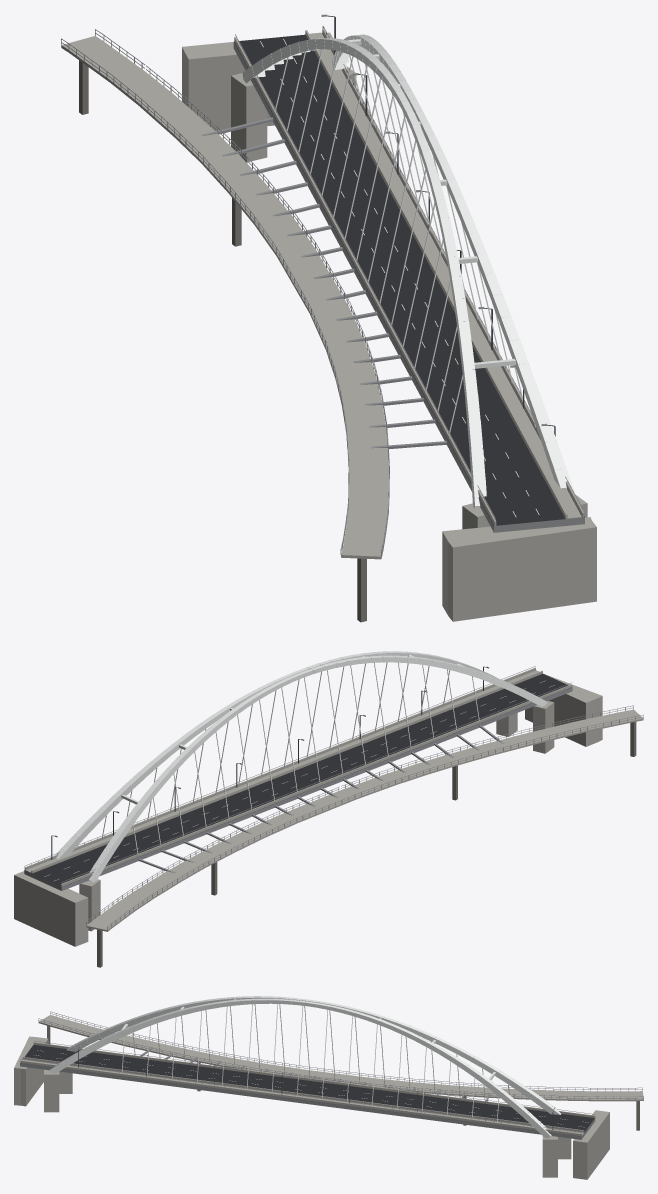
Rendered from br_r11_walterdale_lod1.gltf.
3 renders of one model, top to bottom at view 1: azimuth 30°, elevation 25°; view 2: azimuth 150°, elevation 25°; view 3: azimuth 270°, elevation 25°, orthographic. The views are drawn at different scales.
Visible parts, largest first — view 1: br_r11_walterdale_lod1; view 2: br_r11_walterdale_lod1; view 3: br_r11_walterdale_lod1.
Part boxes in pixels (box(x1,y1,x2,y2)): br_r11_walterdale_lod1: box(61, 14, 596, 622); br_r11_walterdale_lod1: box(14, 651, 643, 967); br_r11_walterdale_lod1: box(14, 996, 643, 1179).
Bounding box in the file's own units: 120 × 57.51 × 249.
